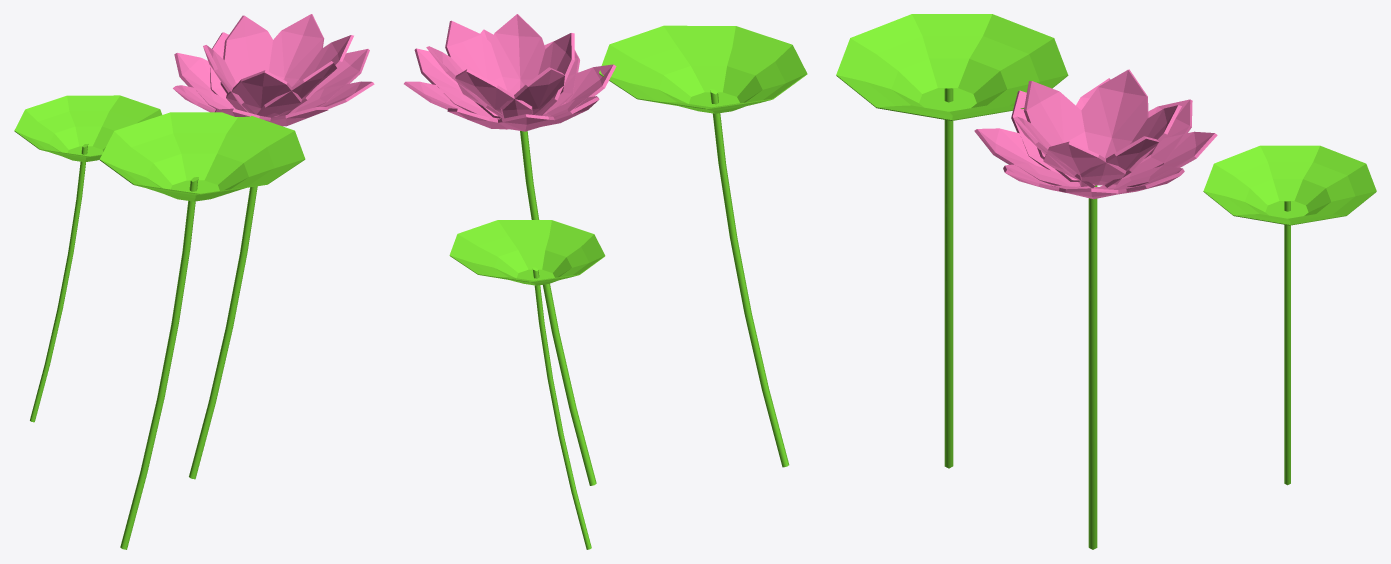
Rendered from lotus.fbx.
3 views of the same model, side by side, from view 1: azimuth 30°, elevation 25°; view 2: azimuth 150°, elevation 25°; view 3: azimuth 270°, elevation 25° (orthographic). The views are drawn at different scales.
Visible parts, largest first — view 1: Cylinder002; view 2: Cylinder002; view 3: Cylinder002.
Part boxes in pixels (bbox=[...]): Cylinder002: bbox=[14, 14, 374, 549]; Cylinder002: bbox=[404, 14, 807, 549]; Cylinder002: bbox=[836, 14, 1376, 549].
Bounding box in the file's own units: 30.22 × 38.56 × 38.19.
